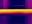Hotspot: (0, 9, 31, 13)
